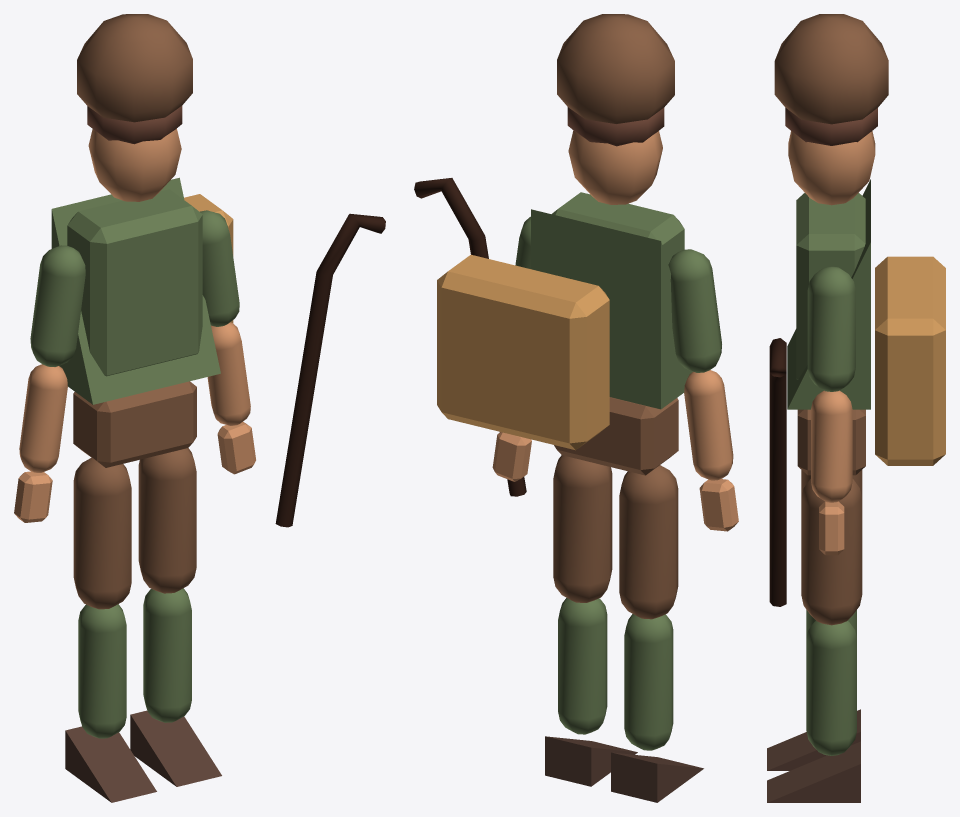
Rendered from adventurer.rustic.glb.
The picture shows the model from 3 angles, left to right: view 1: azimuth 30°, elevation 25°; view 2: azimuth 150°, elevation 25°; view 3: azimuth 270°, elevation 25°; orthographic projection.
Parts seen in each view (by area): view 1: torso, accessory.head, thigh.left, pelvis, thigh.right, tunic, shin.left, shin.right, accessory.main-hand, upper-arm.left, head, foot.left (+7 smaller); view 2: accessory.back, tunic, accessory.head, thigh.left, thigh.right, shin.right, shin.left, pelvis, upper-arm.left, head, forearm.left, torso (+7 smaller); view 3: accessory.back, accessory.head, thigh.right, shin.right, torso, upper-arm.right, accessory.main-hand, head, tunic, forearm.right, foot.right, hair (+3 smaller).
Part boxes in pixels (x1,y1,x2,y2): torso: (67, 189, 202, 376); accessory.head: (77, 14, 192, 122); thigh.left: (73, 458, 131, 609); pelvis: (73, 381, 196, 467); thigh.right: (138, 448, 196, 593); tunic: (51, 177, 220, 404); shin.left: (78, 604, 126, 738); shin.right: (143, 588, 191, 722); accessory.main-hand: (275, 213, 385, 527); upper-arm.left: (30, 245, 85, 366); head: (88, 128, 181, 201); foot.left: (65, 726, 156, 802); accessory.back: (437, 254, 609, 450); tunic: (531, 209, 692, 409); accessory.head: (557, 14, 674, 123); thigh.left: (619, 465, 678, 619); thigh.right: (553, 455, 612, 602); shin.right: (558, 597, 607, 734); shin.left: (624, 614, 673, 750); pelvis: (554, 397, 678, 475); upper-arm.left: (668, 249, 721, 372); head: (568, 130, 662, 204); forearm.left: (684, 370, 733, 480); torso: (551, 192, 684, 264); accessory.back: (875, 256, 945, 465); accessory.head: (774, 14, 888, 124); thigh.right: (801, 479, 862, 625); shin.right: (806, 620, 856, 755); torso: (796, 193, 865, 379); upper-arm.right: (807, 266, 855, 391); accessory.main-hand: (769, 338, 786, 606); head: (788, 131, 875, 205); tunic: (787, 179, 870, 409); forearm.right: (811, 390, 852, 502); foot.right: (767, 741, 860, 802); hair: (785, 108, 877, 145).
Bounding box in the file's own units: 1.57 × 3.29 × 0.705.
